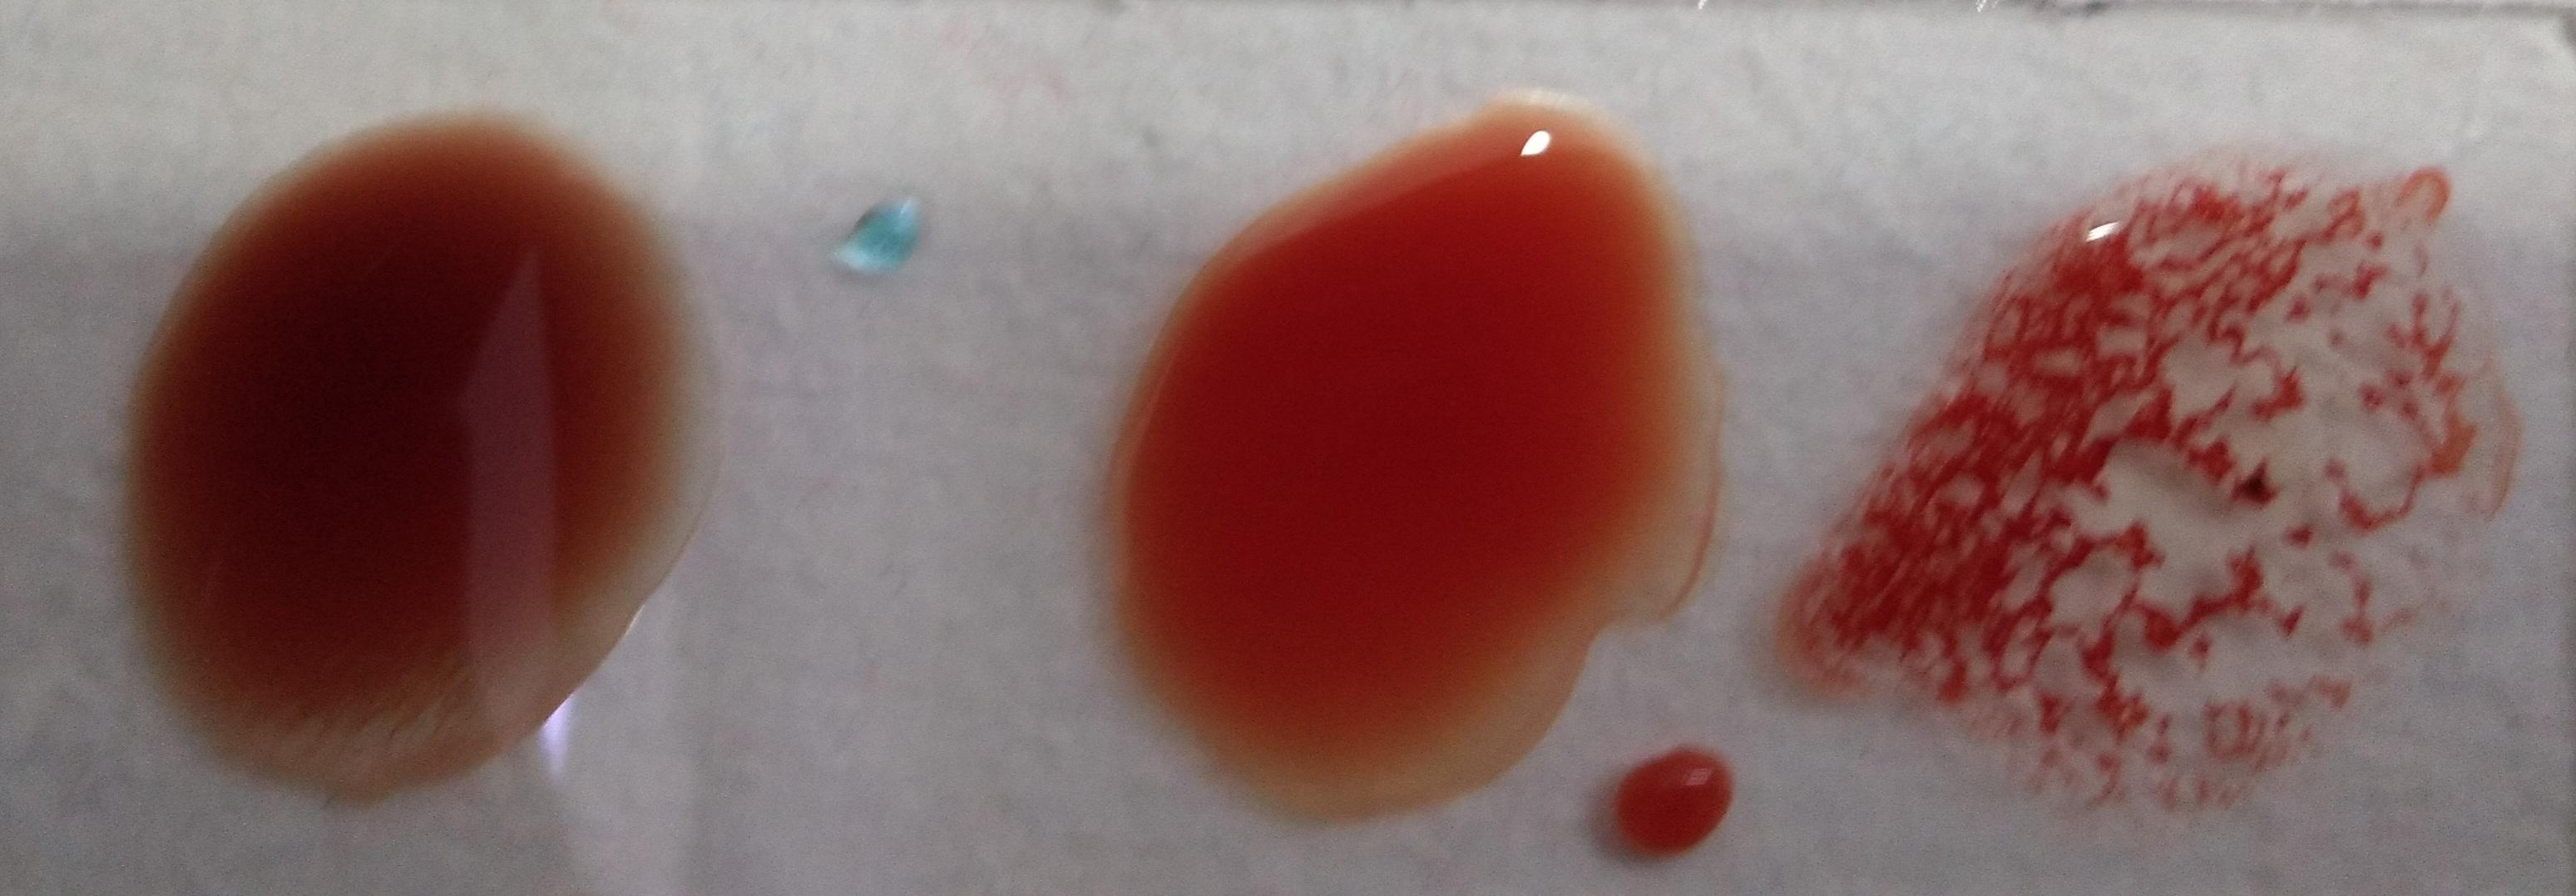D: (1883, 164, 2484, 809)
